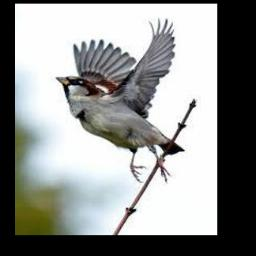Sparrow: (55, 17, 184, 182)
